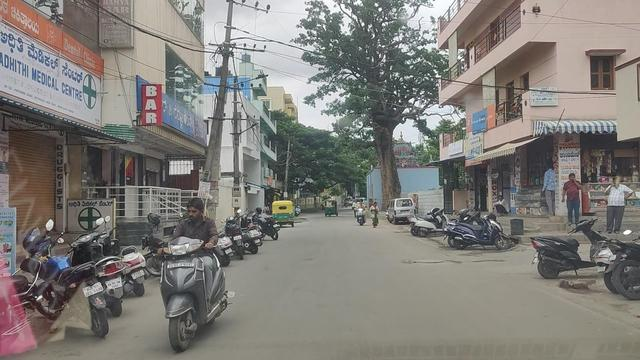LMV: (169, 200, 221, 350)
RoadDamages: (402, 254, 457, 270)
